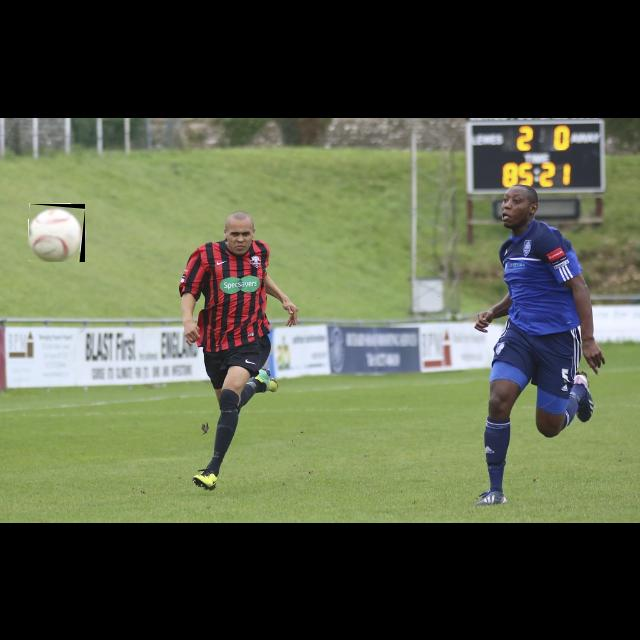Football: (29, 204, 85, 262)
